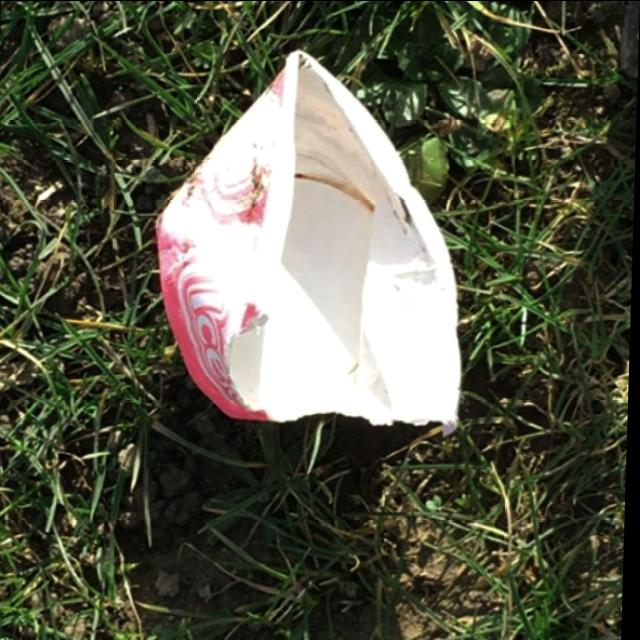Paper: (147, 45, 472, 437)
